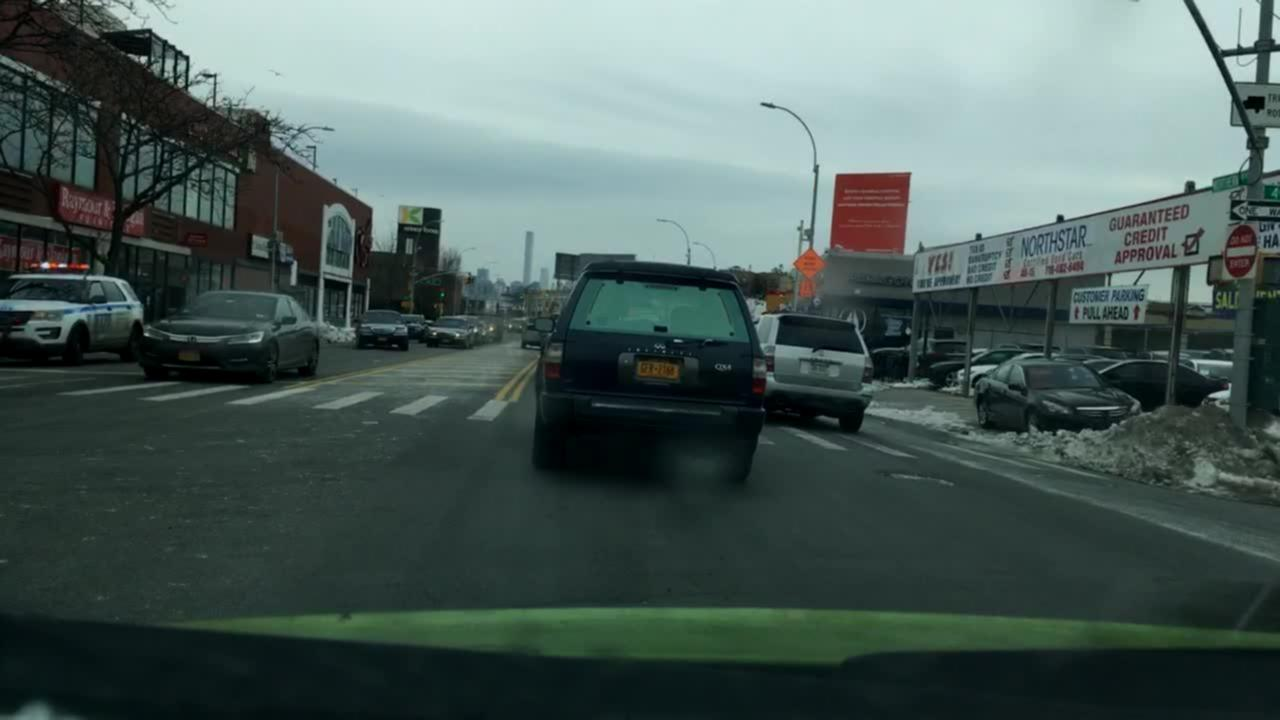Infiniti: (652, 339, 667, 352)
